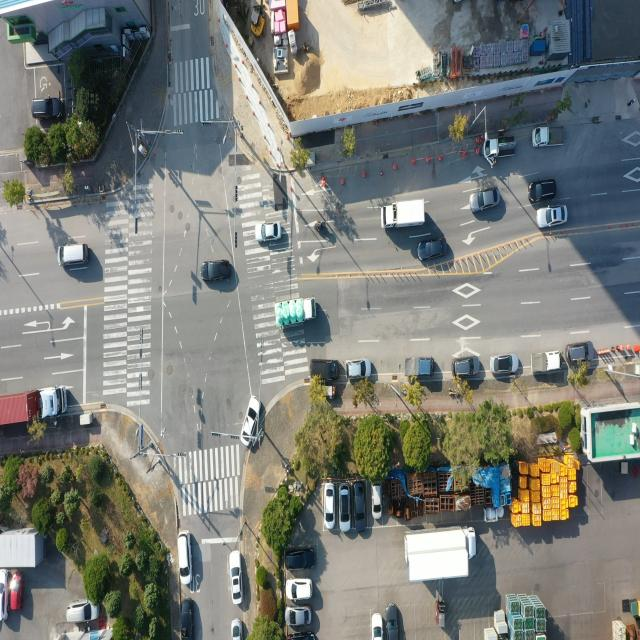car: (242, 396, 261, 446), (67, 601, 99, 627), (536, 205, 568, 229), (29, 95, 61, 119), (417, 238, 447, 263), (309, 357, 340, 381), (59, 243, 90, 267), (471, 190, 501, 214), (202, 260, 231, 284), (286, 550, 316, 573), (490, 352, 520, 375), (178, 532, 191, 584), (453, 354, 481, 378), (532, 182, 560, 205), (232, 553, 244, 605), (346, 358, 373, 380), (568, 343, 595, 365), (354, 482, 366, 531), (341, 484, 353, 532), (9, 572, 23, 613), (256, 221, 282, 242), (327, 482, 338, 530), (288, 579, 312, 600), (180, 596, 192, 638), (288, 607, 312, 627), (386, 604, 398, 640), (0, 570, 8, 624), (371, 484, 380, 519), (371, 614, 383, 640), (233, 619, 243, 640)
large_truck: (0, 389, 65, 429)
medium_truck: (402, 528, 475, 583), (274, 296, 317, 330), (382, 200, 427, 232)
small_truck: (483, 135, 516, 161), (530, 350, 562, 375), (403, 354, 435, 378), (532, 126, 565, 149)
